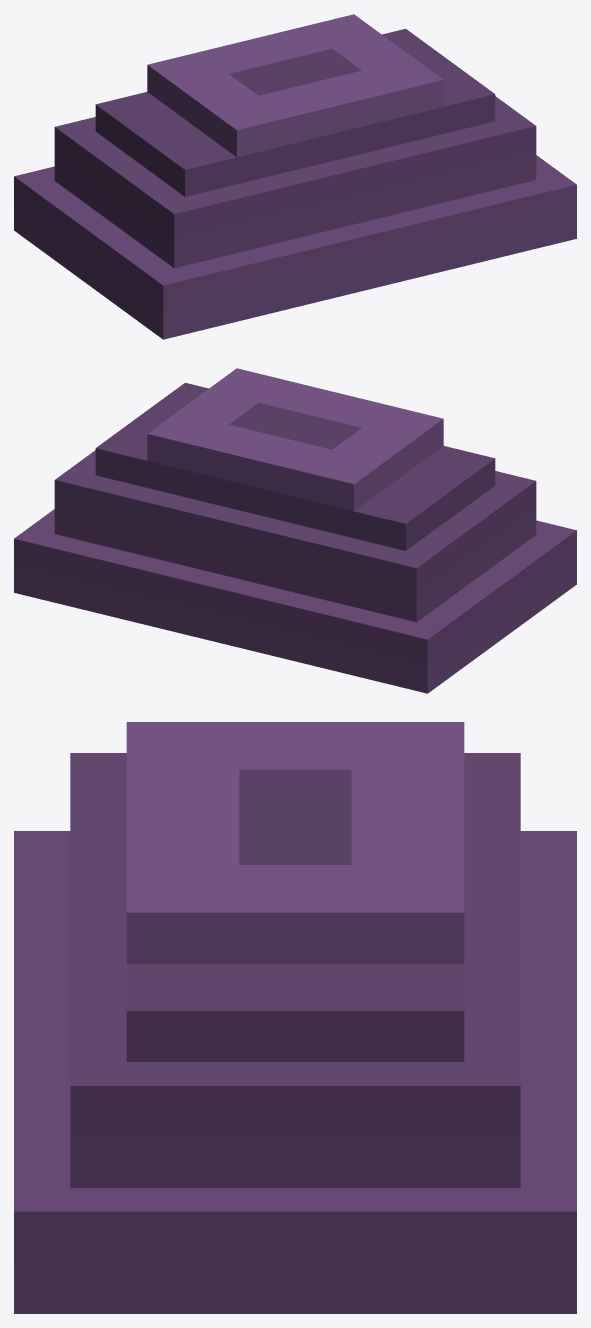
The model's file is mat_voidsteel.glb.
3 views of the same model, one above another, from view 1: azimuth 30°, elevation 25°; view 2: azimuth 150°, elevation 25°; view 3: azimuth 270°, elevation 25° (orthographic). The views are drawn at different scales.
Visible parts, largest first — view 1: mat_voidsteel; view 2: mat_voidsteel; view 3: mat_voidsteel.
Boxes of the visible parts, x1,y1,x2,y2 form: mat_voidsteel: [14, 14, 576, 339]; mat_voidsteel: [14, 368, 576, 693]; mat_voidsteel: [14, 722, 576, 1313].
Bounding box in the file's own units: 0.192 × 0.072 × 0.12.
